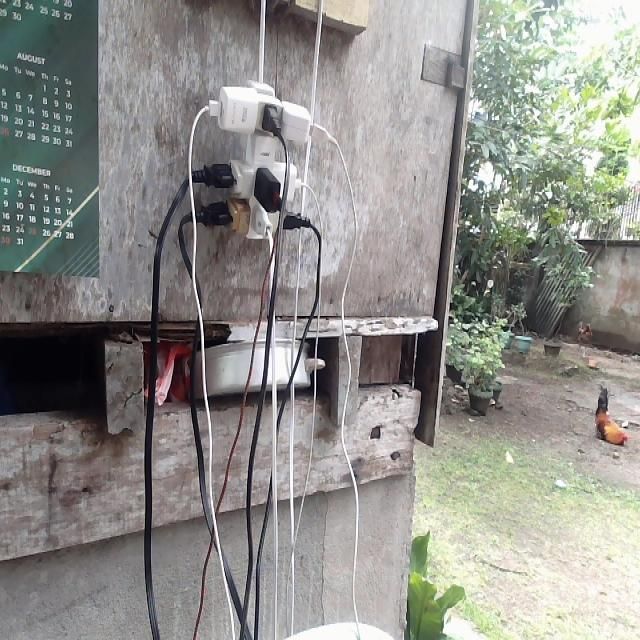-: (182, 77, 326, 239)
